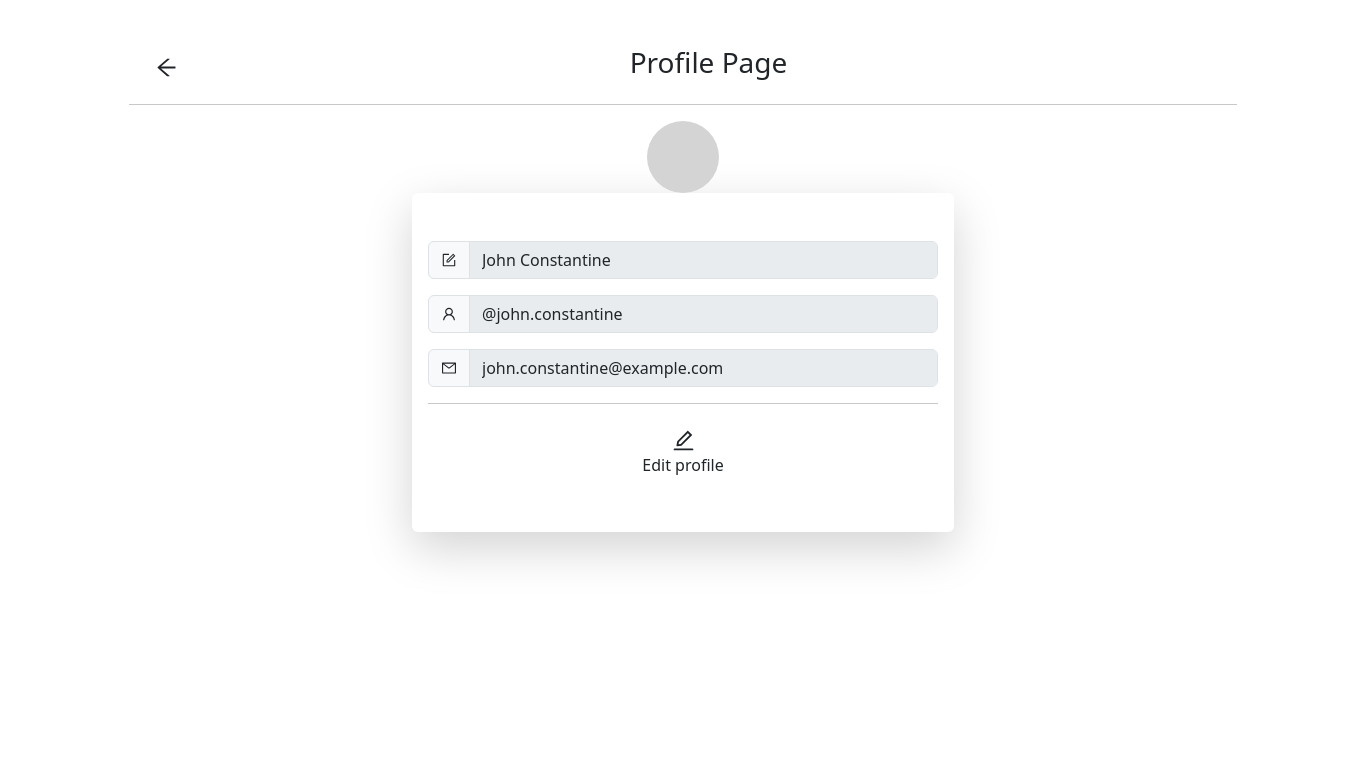
Scenario: Profile Page › test if is not possible to change the email or username to one that already exists
Click the button with test id "edit-profile-button": [683, 452] box left=629, top=420, right=737, bottom=484
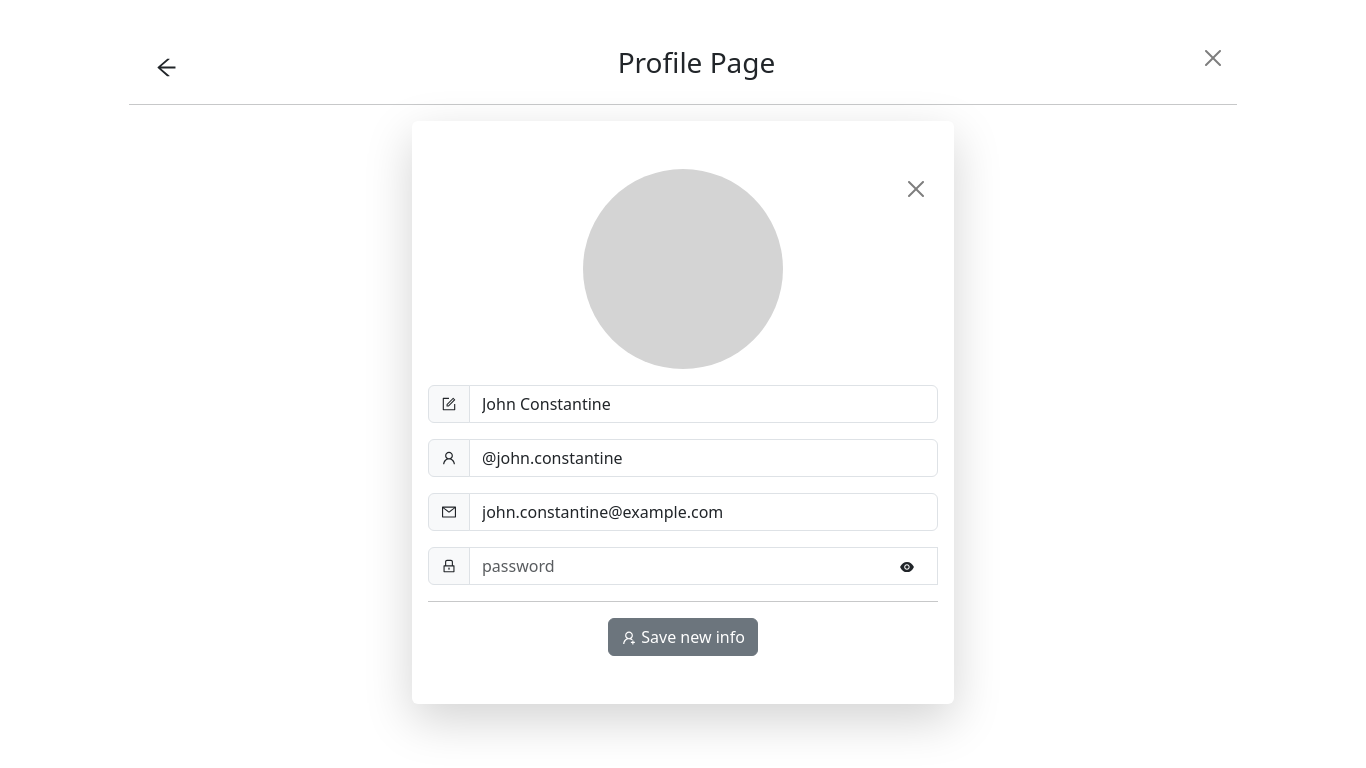
Clear the 3rd field showing "john.constantine@example.com": [704, 512] box left=469, top=493, right=938, bottom=531
In the field showing "john.constantine@example.com": [704, 512] box left=469, top=493, right=938, bottom=531, type "jane.doe@example.com"
Click the button "Save new info": [683, 637] box left=608, top=618, right=758, bottom=656
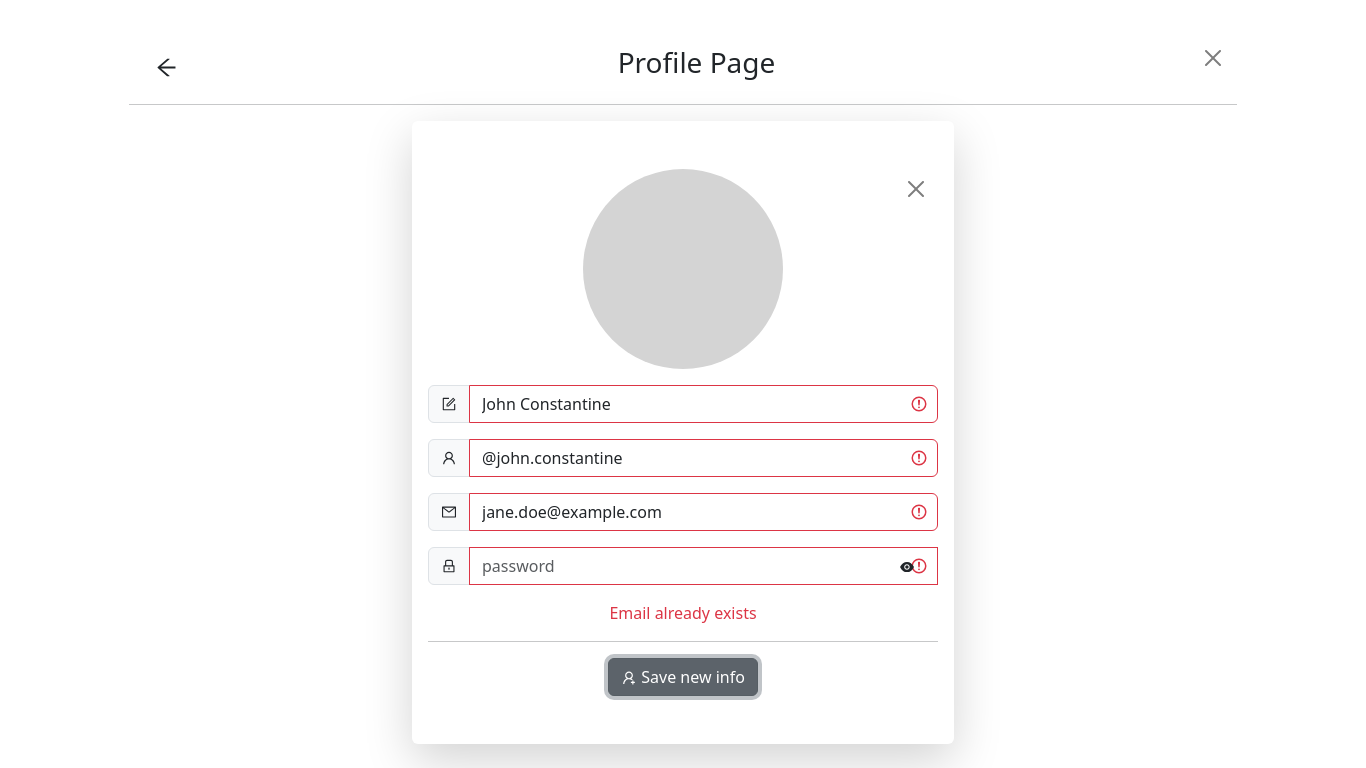
Expected: the text "Email already exists" is shown, left=609, top=602, right=757, bottom=624
Clear the 3rd field showing "john.constantine@example.com": [704, 512] box left=469, top=493, right=938, bottom=531
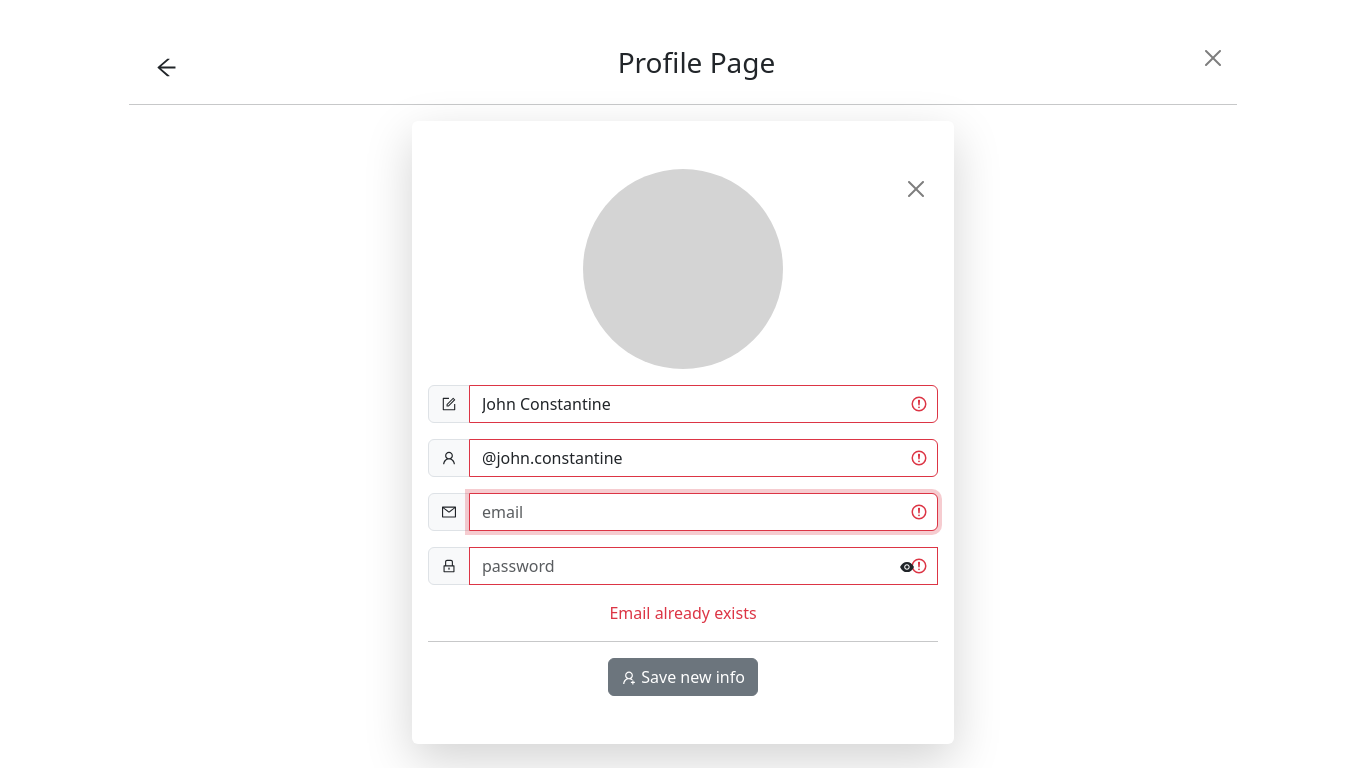
Clear the 2nd field showing "@john.constantine": [704, 458] box left=469, top=439, right=938, bottom=477
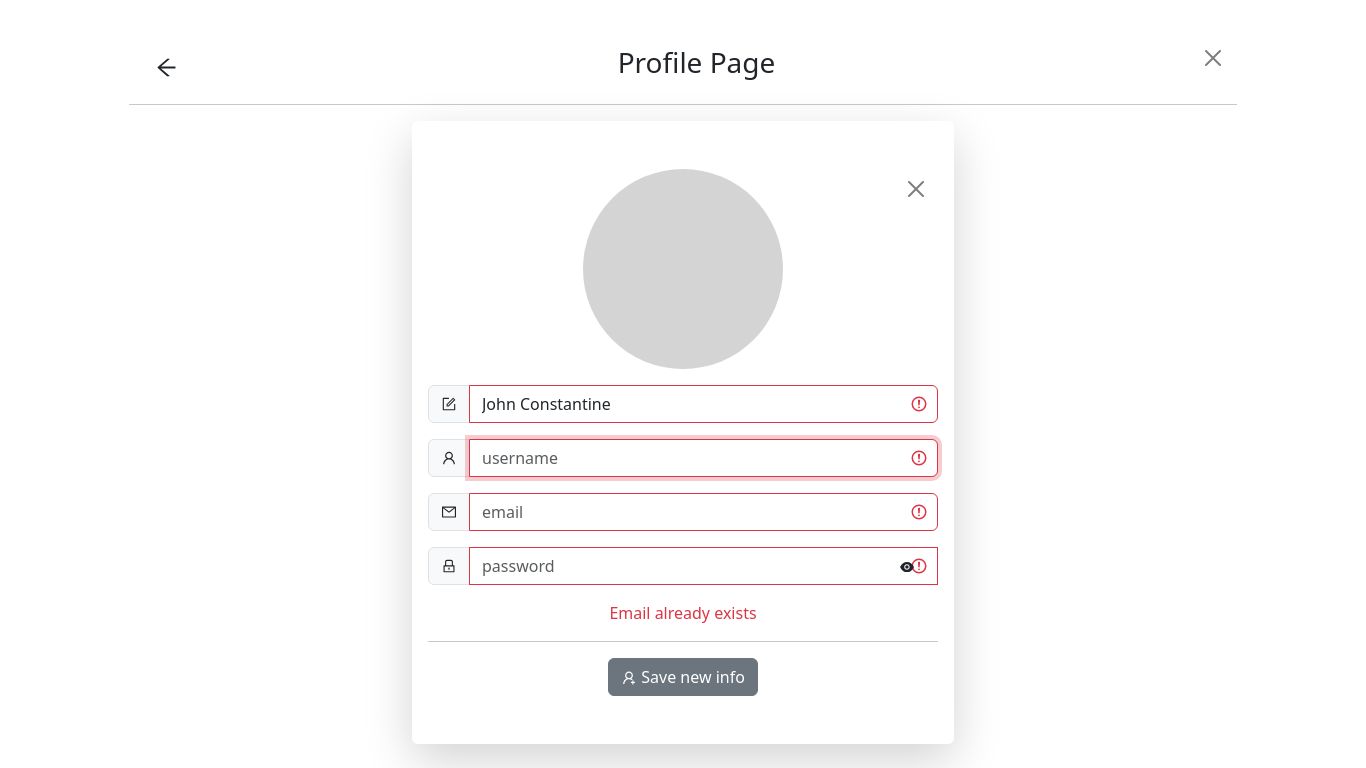
In the field showing "@john.constantine": [704, 458] box left=469, top=439, right=938, bottom=477, type "@jane.doe"
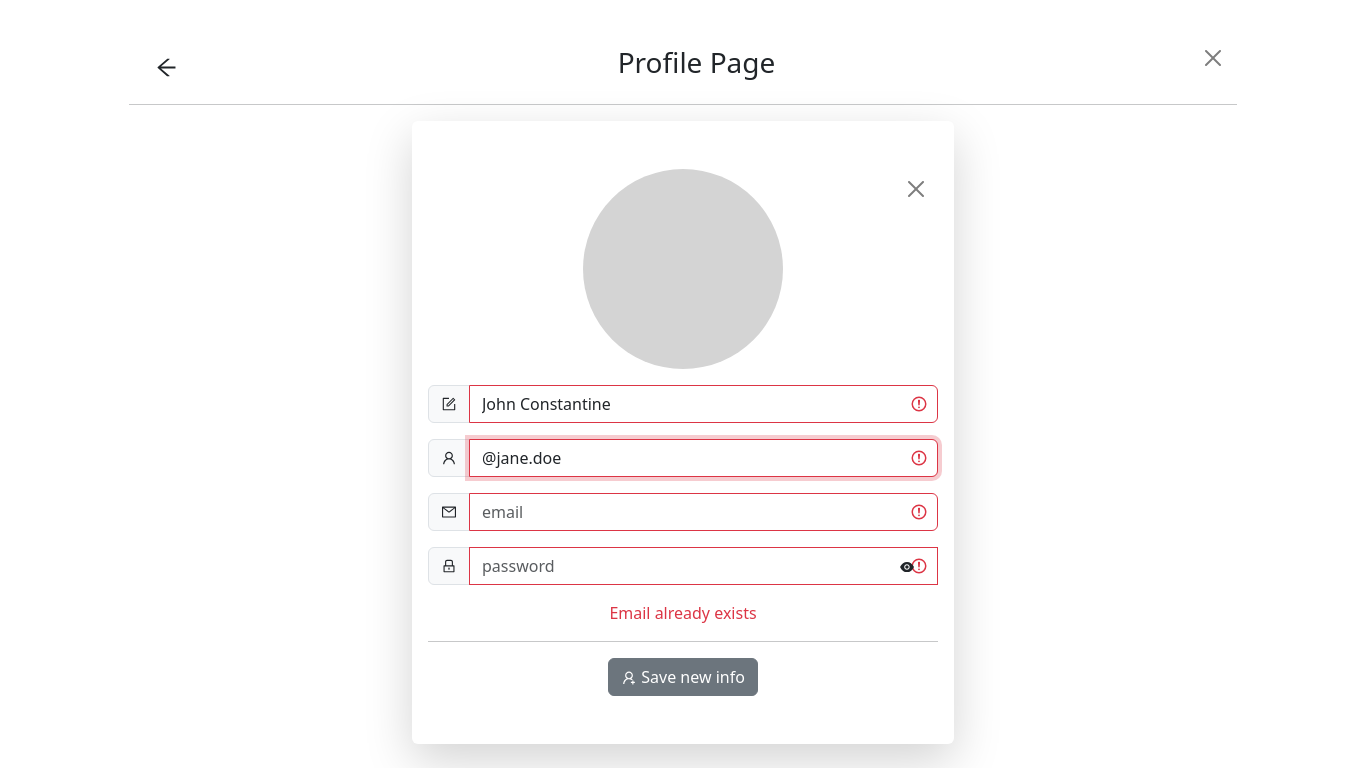
Click the button "Save new info": [683, 677] box left=608, top=658, right=758, bottom=696
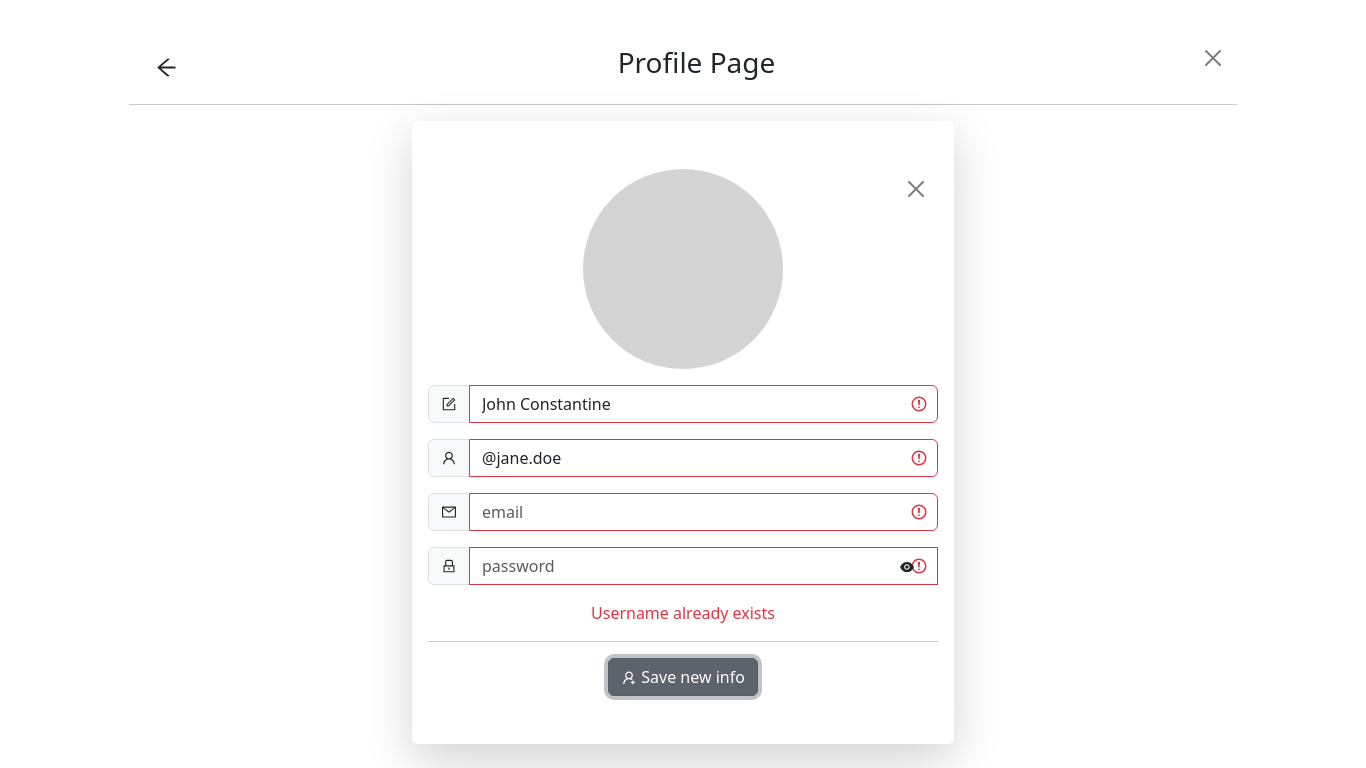
Expected: the text "Username already exists" is shown, left=591, top=602, right=775, bottom=624
